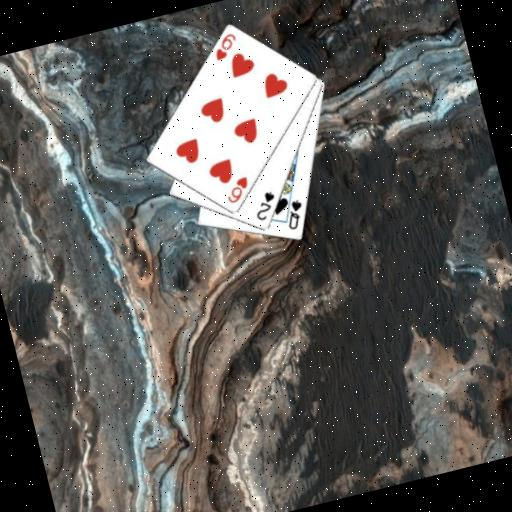2S: (248, 187, 282, 224)
6H: (208, 30, 242, 64), (221, 173, 254, 206)
QS: (279, 196, 309, 233)
